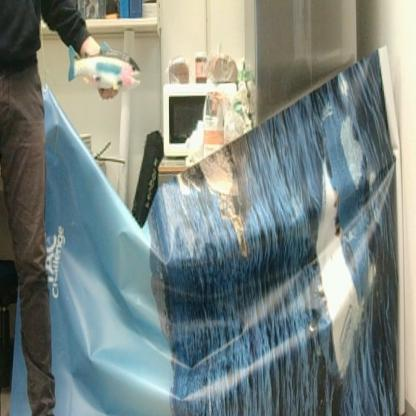rubberfish: (66, 42, 147, 92)
